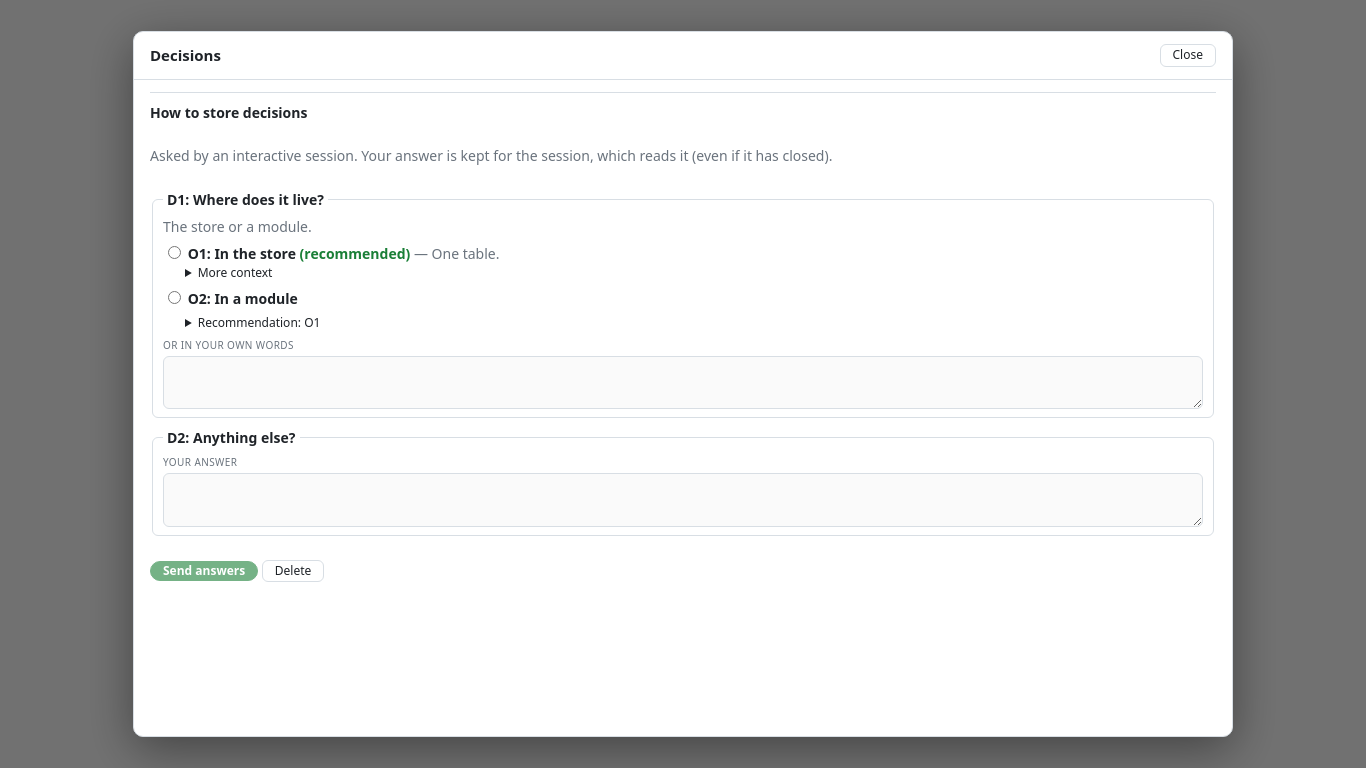
the decisions dialog › sends an option and words for each point, then reloads the list
Step 1. Click the radio button labelled "O1: In the store" → (174, 252), box [168, 246, 181, 259]
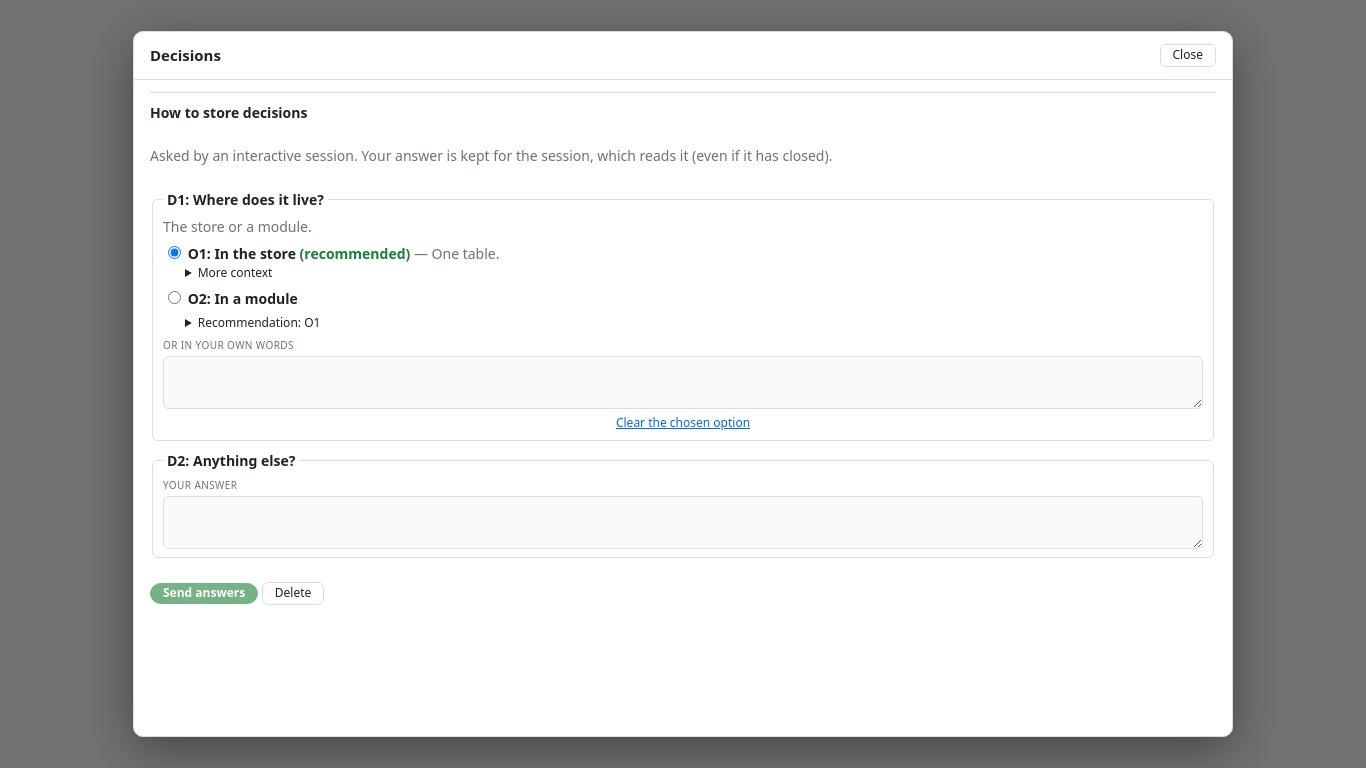
Step 2. Type "but check" into the text box named "Your words for D1" → (683, 382), box [163, 356, 1203, 409]
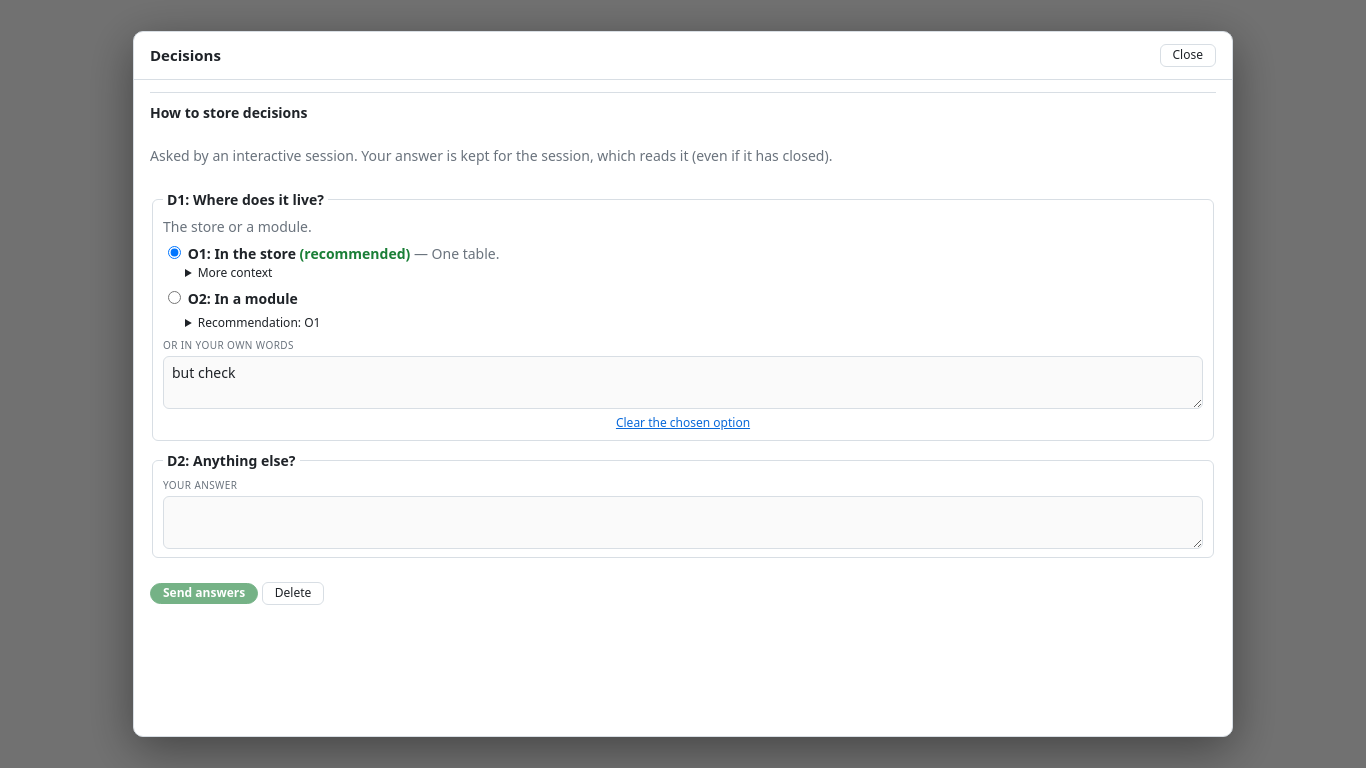
Step 3. Type "No." into the text box named "Your words for D2" → (683, 523), box [163, 496, 1203, 550]
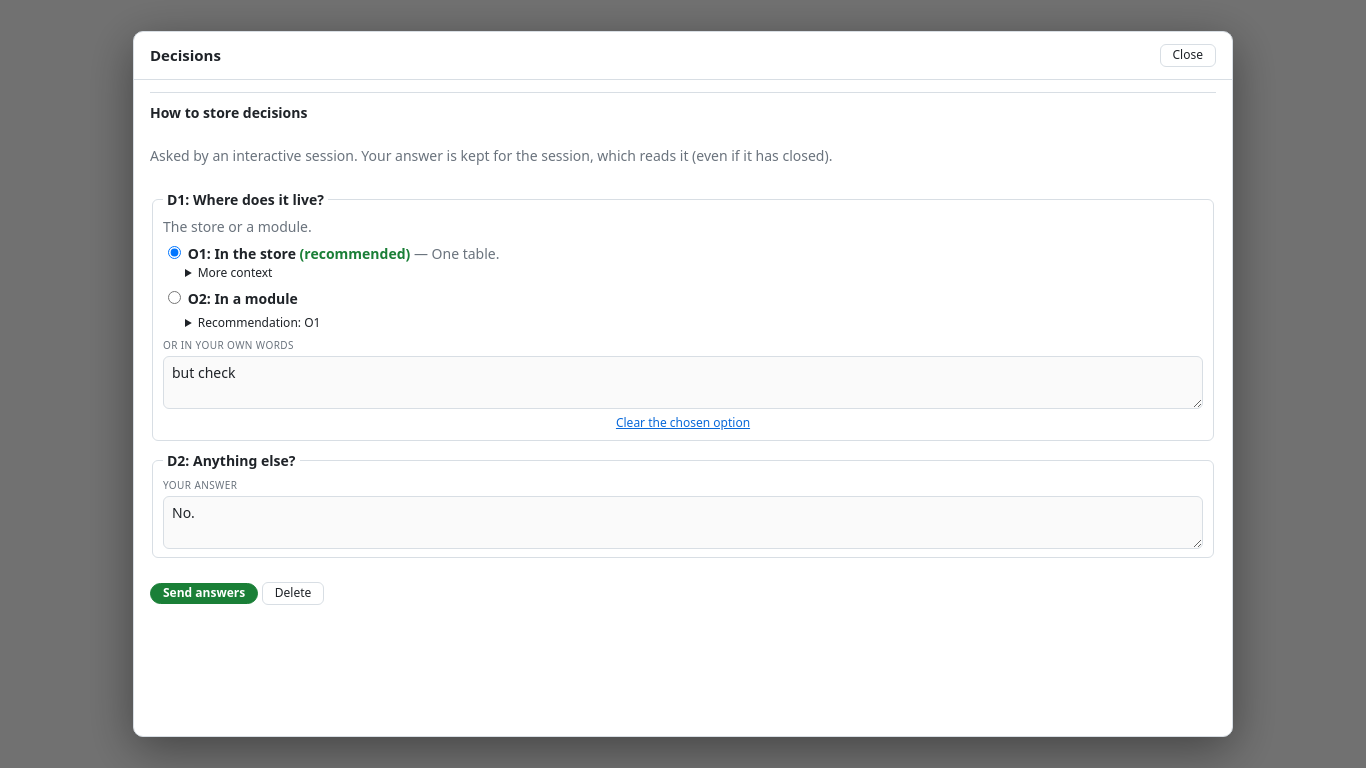
Step 4. Click the button "Send answers" → (204, 594), box [150, 583, 258, 604]
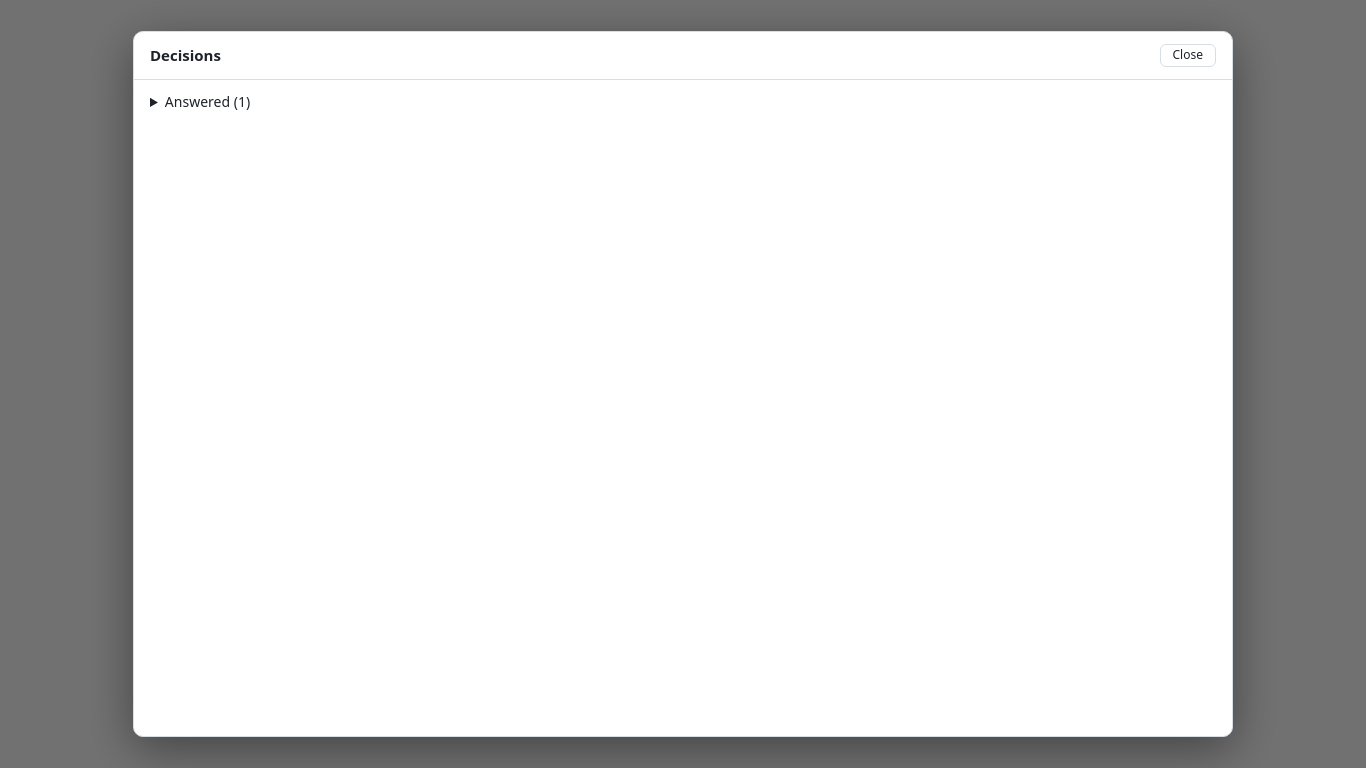
Expected: the heading "Answered (1)" is shown, [165, 92, 250, 110]
